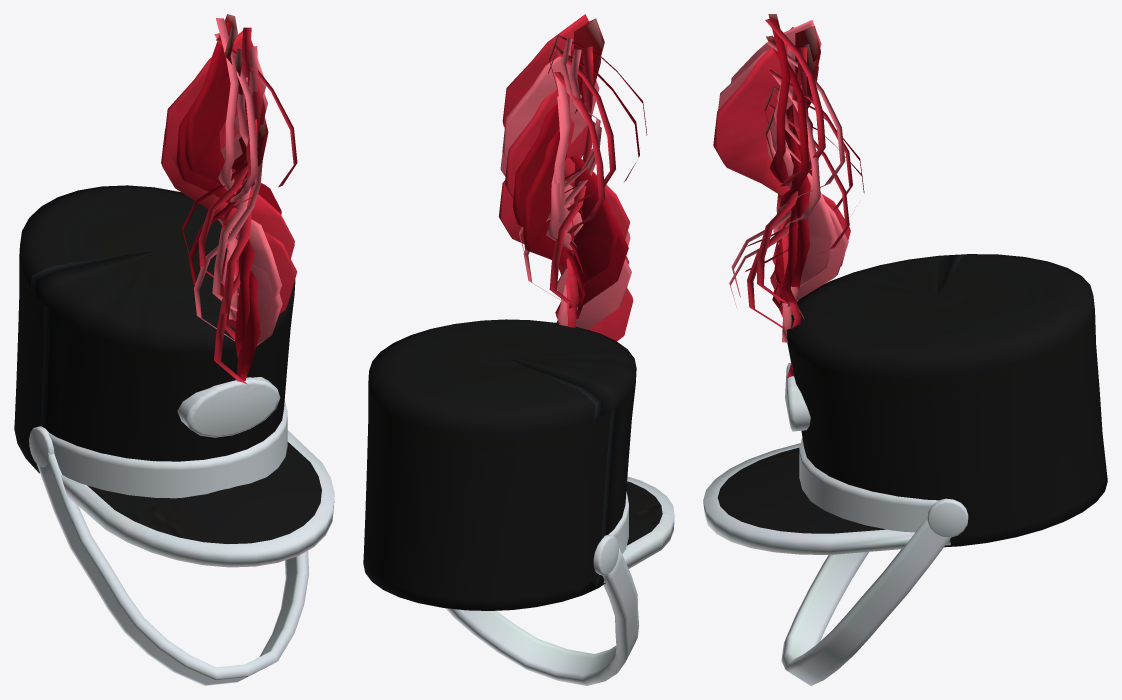
The model's file is outfit_band_hat.glb.
The picture shows the model from 3 angles, left to right: view 1: azimuth 30°, elevation 25°; view 2: azimuth 150°, elevation 25°; view 3: azimuth 270°, elevation 25°; orthographic projection. The views are drawn at different scales.
Visible parts, largest first — view 1: outfit_band_hat; view 2: outfit_band_hat; view 3: outfit_band_hat.
Part boxes in pixels (<box>): outfit_band_hat: <box>14,14,334,685</box>; outfit_band_hat: <box>363,14,674,685</box>; outfit_band_hat: <box>703,14,1107,685</box>.
Size of the model in its own units: 0.1106 by 0.3 by 0.1683.
Materials: 10 (10 with a texture image).
